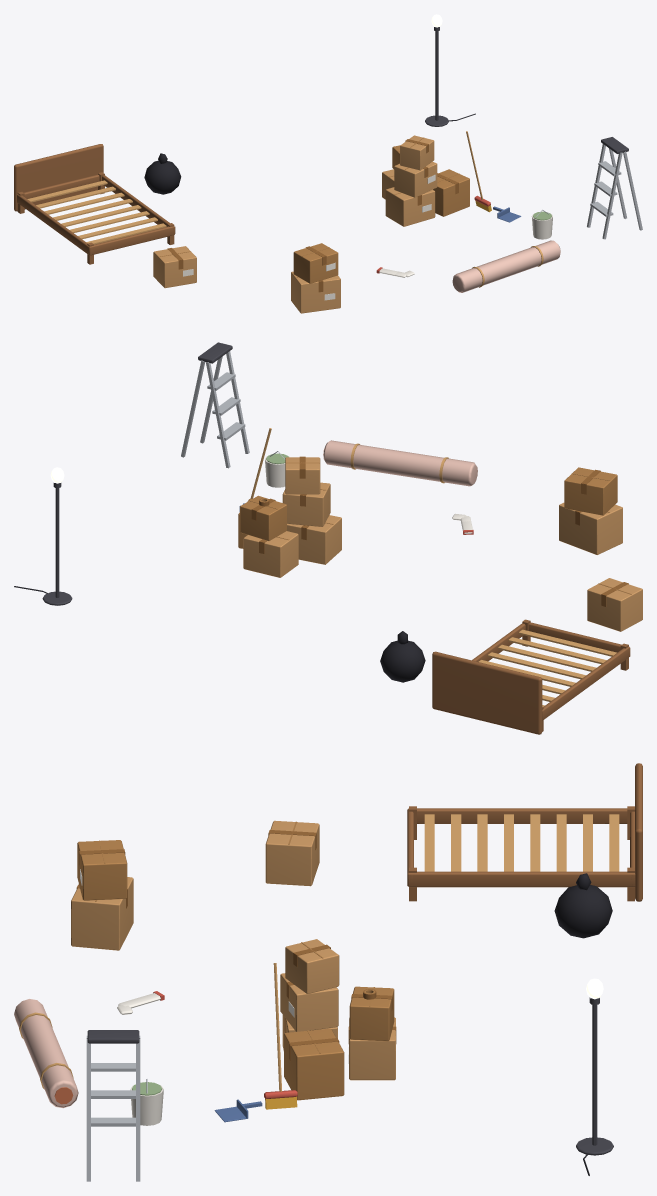
Rendered from einrichtung_freies_zimmer_leer.glb.
3 renders of one model, top to bottom at view 1: azimuth 30°, elevation 25°; view 2: azimuth 150°, elevation 25°; view 3: azimuth 270°, elevation 25°, orthographic. The views are drawn at different scales.
Parts seen in each view (by area): view 1: einrichtung_freies_zimmer_leer; view 2: einrichtung_freies_zimmer_leer; view 3: einrichtung_freies_zimmer_leer.
Boxes of the visible parts, x1,y1,x2,y2 form: einrichtung_freies_zimmer_leer: [14, 14, 642, 313]; einrichtung_freies_zimmer_leer: [14, 342, 642, 734]; einrichtung_freies_zimmer_leer: [14, 763, 642, 1181].
Bounding box in the file's own units: 7.34 × 1.68 × 5.62.
